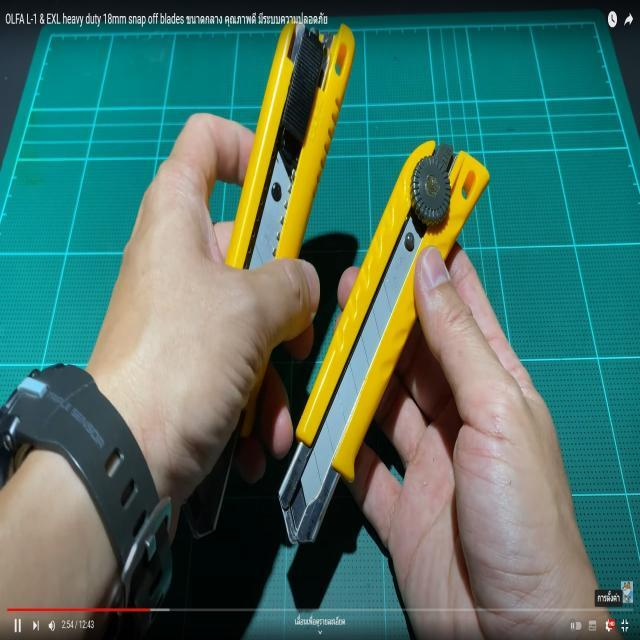cutter: (212, 22, 578, 594)
